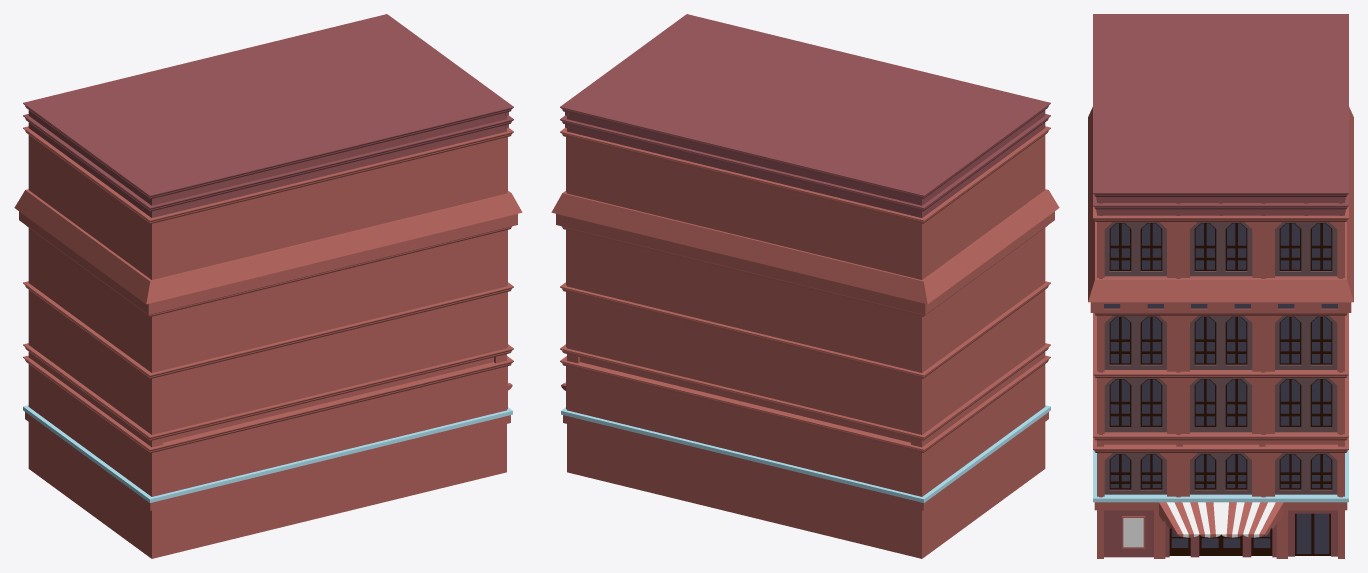
The model's file is Building13.fbx.
3 views of the same model, side by side, from view 1: azimuth 30°, elevation 25°; view 2: azimuth 150°, elevation 25°; view 3: azimuth 270°, elevation 25° (orthographic).
Parts seen in each view (by area): view 1: Plane.089, Plane.088, Plane.084, Plane.086, Plane.087; view 2: Plane.089, Plane.088, Plane.084, Plane.086, Plane.087; view 3: Plane.089, Plane.088, Plane.086, Plane.084, Plane.087.
Boxes of the visible parts, bbox=[...] form: Plane.089: bbox=[14, 14, 522, 314]; Plane.088: bbox=[23, 343, 513, 496]; Plane.084: bbox=[23, 382, 512, 558]; Plane.086: bbox=[23, 281, 513, 434]; Plane.087: bbox=[26, 225, 511, 372]; Plane.089: bbox=[551, 14, 1059, 314]; Plane.088: bbox=[560, 343, 1050, 496]; Plane.084: bbox=[561, 382, 1050, 558]; Plane.086: bbox=[560, 281, 1050, 434]; Plane.087: bbox=[562, 225, 1047, 372]; Plane.089: bbox=[1088, 14, 1353, 312]; Plane.088: bbox=[1093, 375, 1348, 497]; Plane.086: bbox=[1093, 313, 1348, 434]; Plane.084: bbox=[1093, 450, 1348, 558]; Plane.087: bbox=[1094, 313, 1347, 372].
Size of the model in its own units: 3471 by 2950 by 1930.
